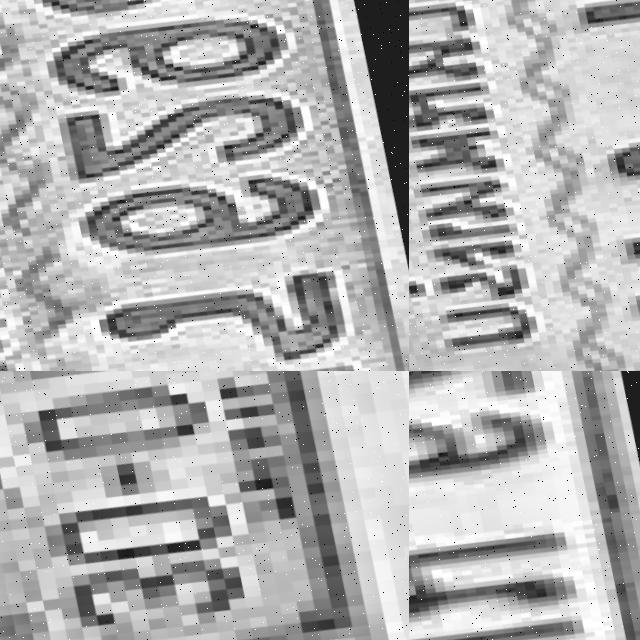license-plate: (0, 0, 409, 371), (0, 371, 373, 640), (409, 0, 640, 371), (409, 371, 640, 640)
